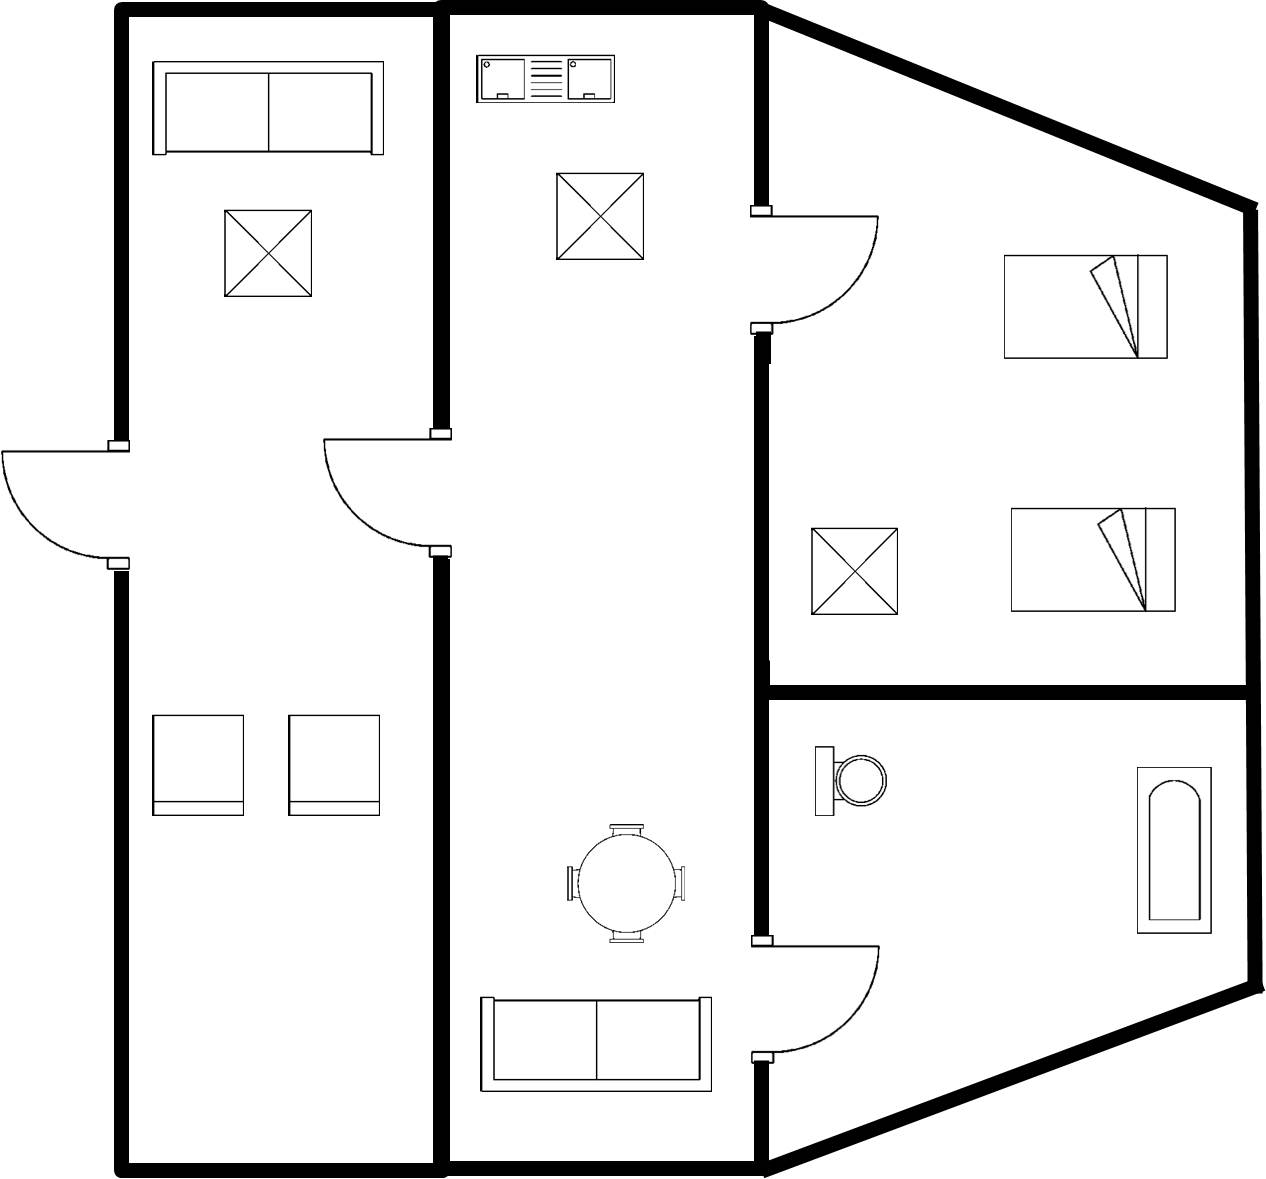bed: (999, 496, 1195, 624), (994, 242, 1177, 371)
coffee_table: (212, 198, 326, 310), (545, 164, 659, 271), (800, 517, 911, 626)
large_sink: (804, 740, 894, 826)
large_sofa: (468, 988, 726, 1107), (141, 53, 396, 163)
round_table: (558, 810, 692, 953)
small_sofa: (142, 704, 254, 827), (277, 707, 387, 827)
tub: (1126, 757, 1223, 942)
twin_sink: (467, 49, 625, 114)
